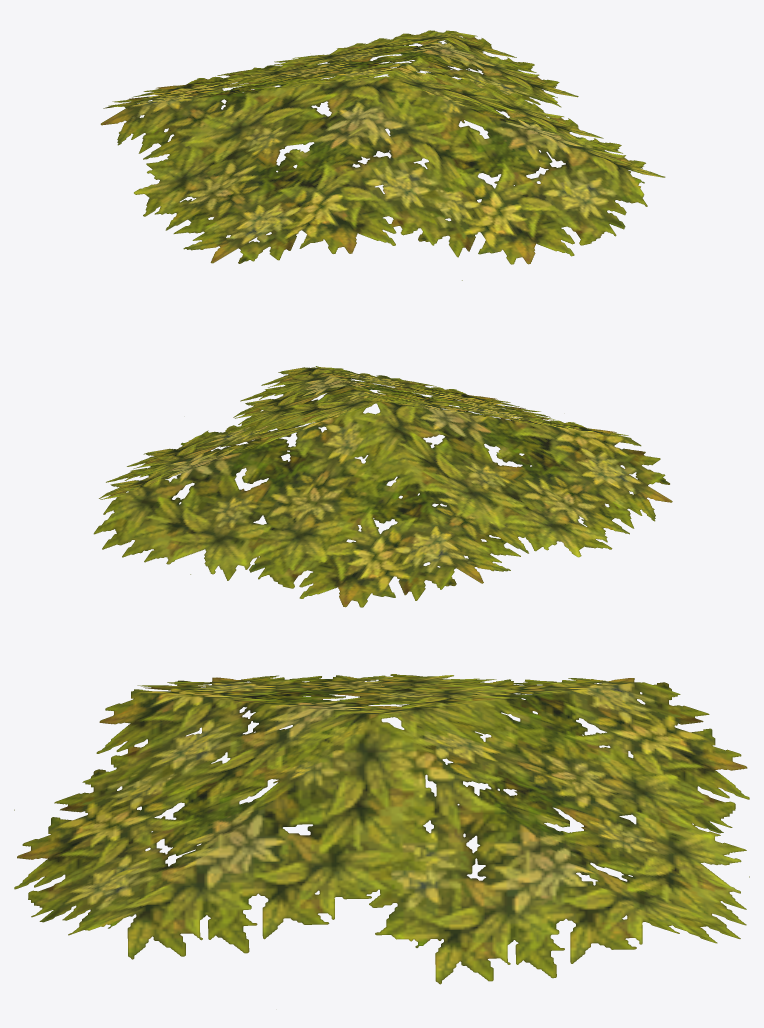
The model's file is obj_macoprgr01.glb.
3 renders of one model, top to bottom at view 1: azimuth 30°, elevation 25°; view 2: azimuth 150°, elevation 25°; view 3: azimuth 270°, elevation 25°, orthographic. The views are drawn at different scales.
Parts seen in each view (by area): view 1: part_0; view 2: part_0; view 3: part_0.
Boxes of the visible parts, x1,y1,x2,y2 form: part_0: (100, 30, 665, 280); part_0: (93, 366, 672, 607); part_0: (14, 674, 749, 984).
Size of the model in its own units: 2.28 by 0.4652 by 2.22.
Materials: 1 (1 with a texture image).
